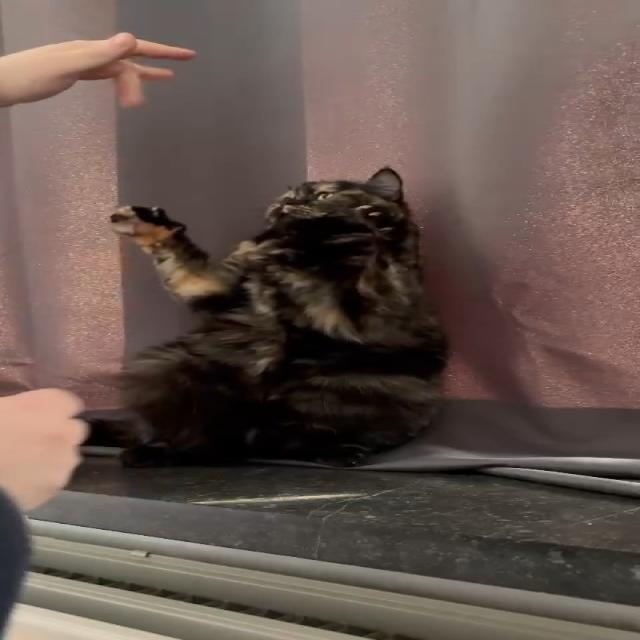authorized: (88, 165, 452, 469)
